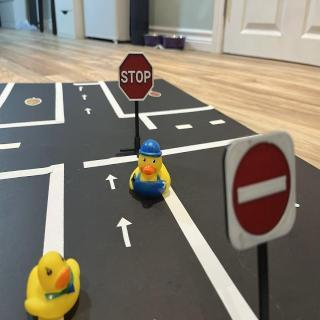duck_regular: (25, 253, 81, 320)
duck_specialty: (130, 141, 172, 203)
road_oneway: (117, 214, 136, 252), (105, 172, 119, 194), (85, 105, 95, 119), (82, 94, 90, 104), (79, 84, 85, 93)
sign_noentry: (223, 133, 299, 254)
sign_stop: (119, 55, 155, 105)
